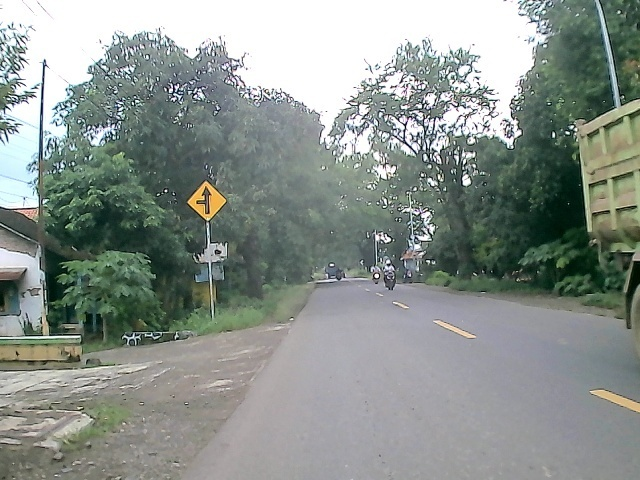Simpang kiri dengan prioritas: (184, 177, 231, 223)
